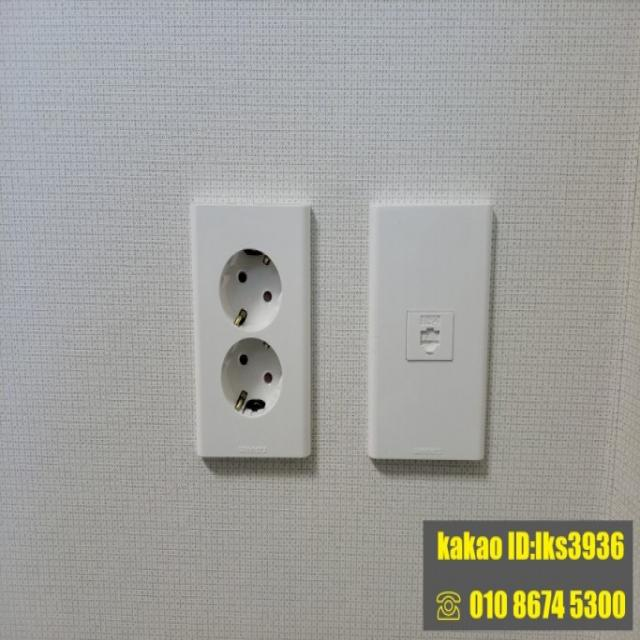typeb: (158, 177, 348, 490)
